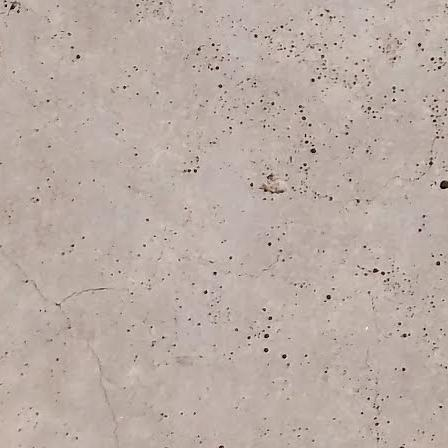crack: (0, 245, 131, 347), (77, 326, 128, 448)
